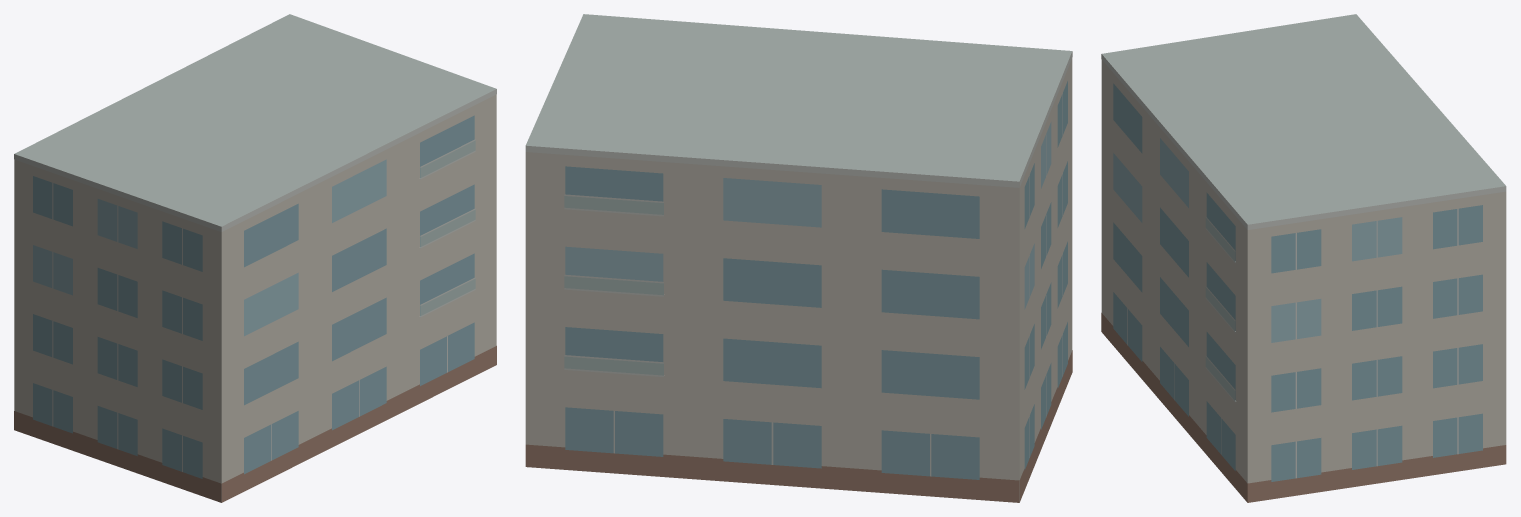
The model's file is survey-upis-32523356.glb.
The picture shows the model from 3 angles, left to right: view 1: azimuth 30°, elevation 25°; view 2: azimuth 150°, elevation 25°; view 3: azimuth 270°, elevation 25°; orthographic projection. The views are drawn at different scales.
Visible parts, largest first — view 1: survey-upis-32523356.tmp; view 2: survey-upis-32523356.tmp; view 3: survey-upis-32523356.tmp.
Part boxes in pixels (bbox=[...]): survey-upis-32523356.tmp: bbox=[14, 14, 496, 502]; survey-upis-32523356.tmp: bbox=[525, 14, 1072, 502]; survey-upis-32523356.tmp: bbox=[1101, 14, 1506, 502].
Size of the model in its own units: 20.32 by 12.5 by 16.5.
